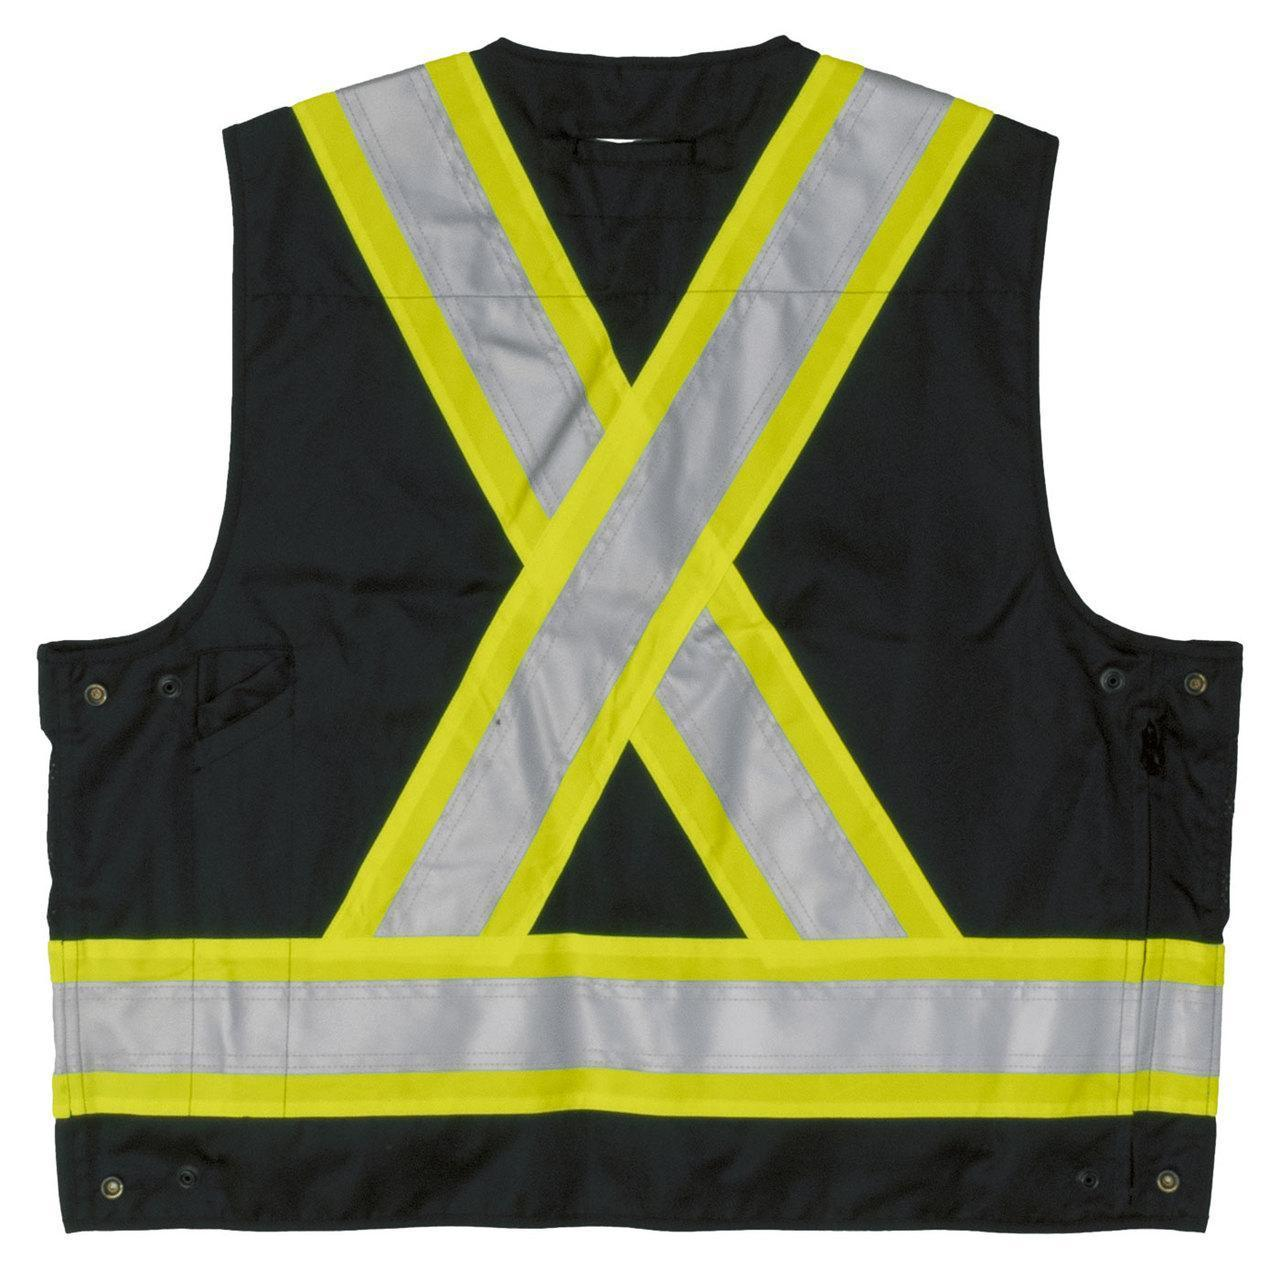vest: (30, 35, 1246, 1232)
